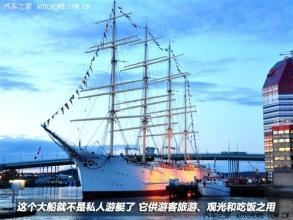fanchuan: (39, 6, 220, 200)
otherboat: (196, 171, 229, 196)
